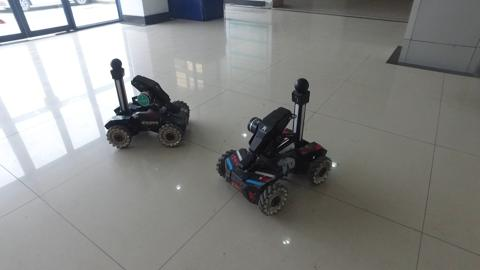chariot: (213, 75, 339, 222), (100, 56, 193, 153)
